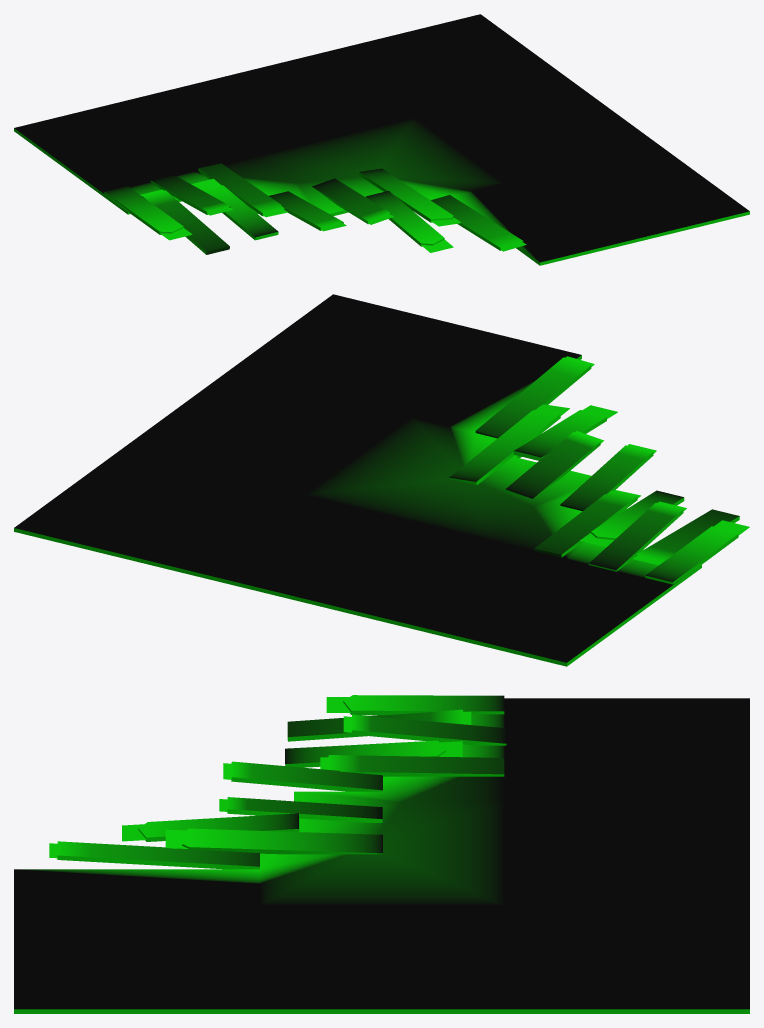
The model's file is DBK_WoodFloor_90_B_Mirror.fbx.
3 views of the same model, one above another, from view 1: azimuth 30°, elevation 25°; view 2: azimuth 150°, elevation 25°; view 3: azimuth 270°, elevation 25° (orthographic). The views are drawn at different scales.
Parts seen in each view (by area): view 1: DBK_WoodFloor_90_B_Mirror; view 2: DBK_WoodFloor_90_B_Mirror; view 3: DBK_WoodFloor_90_B_Mirror.
Boxes of the visible parts, bbox=[...] form: DBK_WoodFloor_90_B_Mirror: bbox=[14, 14, 749, 265]; DBK_WoodFloor_90_B_Mirror: bbox=[14, 294, 749, 666]; DBK_WoodFloor_90_B_Mirror: bbox=[14, 695, 749, 1013].
Size of what is drawn, in the model's own units: 300 by 12.42 by 300.
